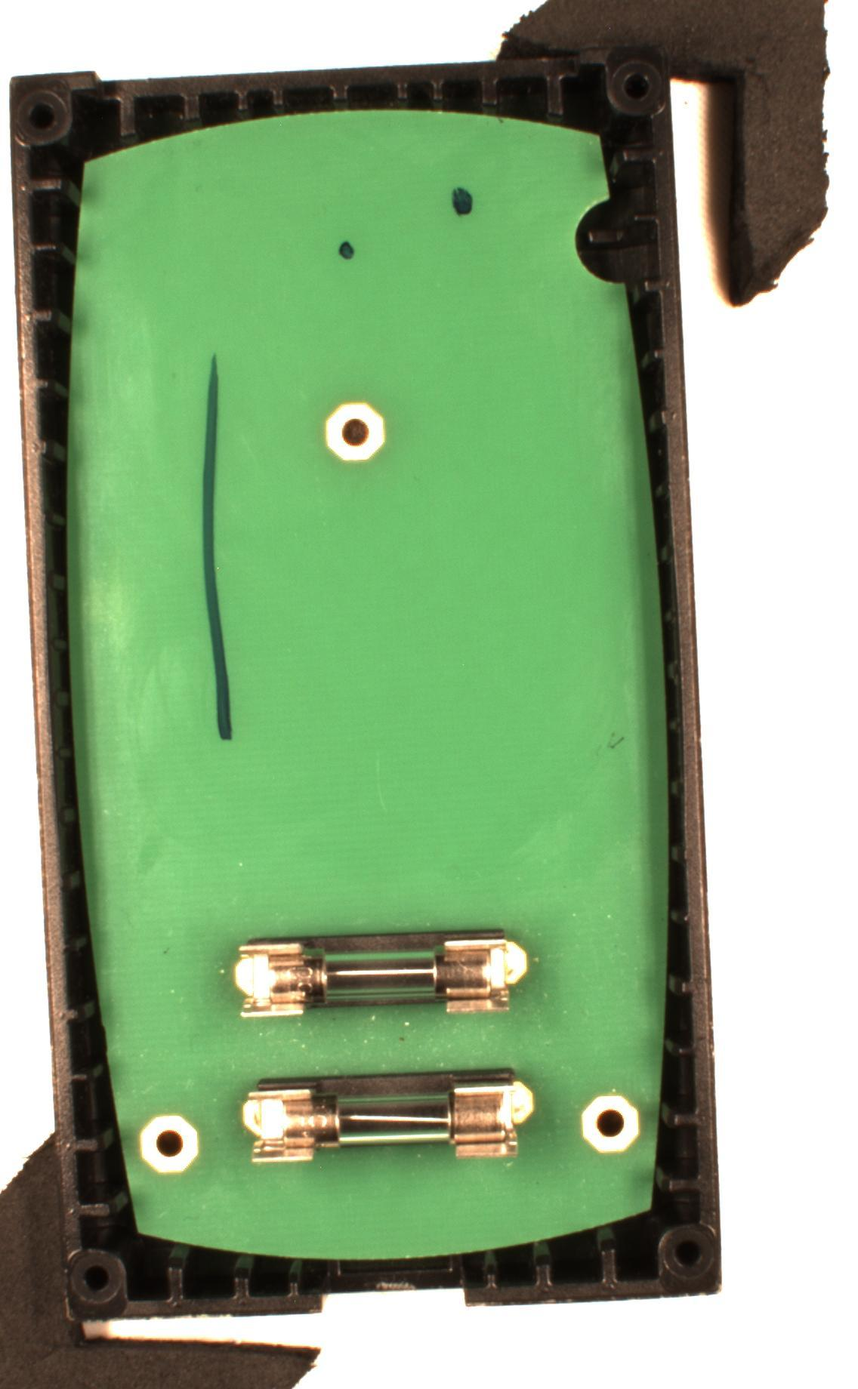Linijsko Ostecene: (197, 352, 238, 749)
Tockasto Ostecenje: (447, 181, 477, 221), (336, 237, 359, 265)
